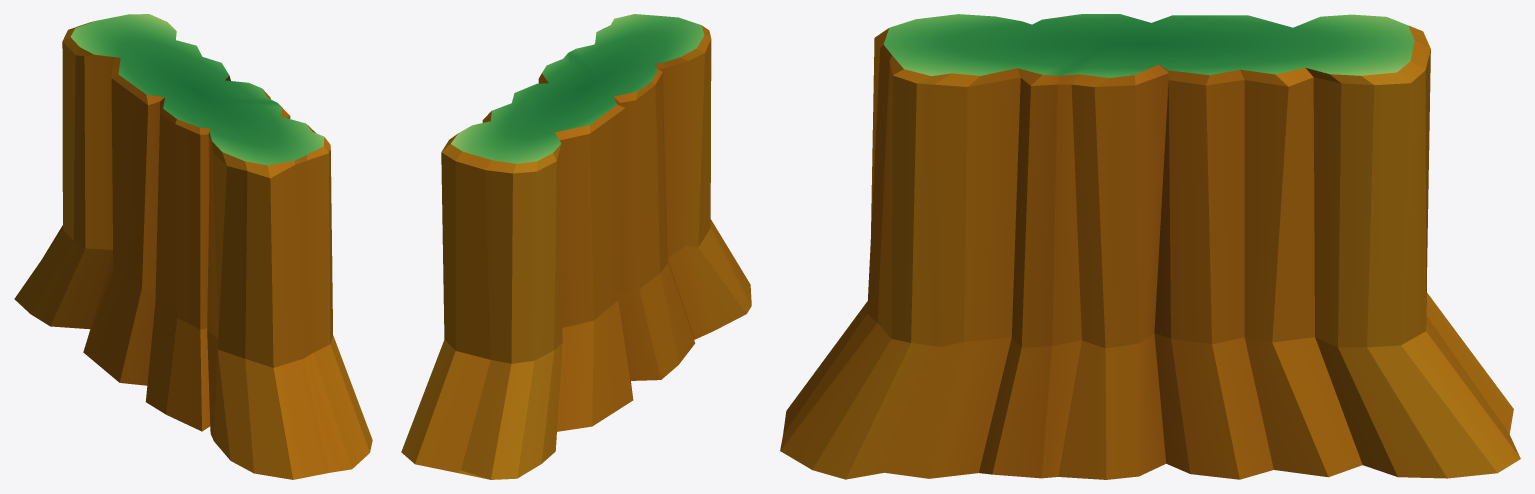
Rendered from cliff_5.fbx.
The picture shows the model from 3 angles, left to right: view 1: azimuth 30°, elevation 25°; view 2: azimuth 150°, elevation 25°; view 3: azimuth 270°, elevation 25°; orthographic projection. The views are drawn at different scales.
Visible parts, largest first — view 1: Plane; view 2: Plane; view 3: Plane.
Part boxes in pixels (x1,y1,x2,y2): Plane: (14, 14, 372, 479); Plane: (401, 14, 751, 479); Plane: (780, 14, 1520, 479).
Size of the model in its own units: 1228 by 2535 by 4292.
